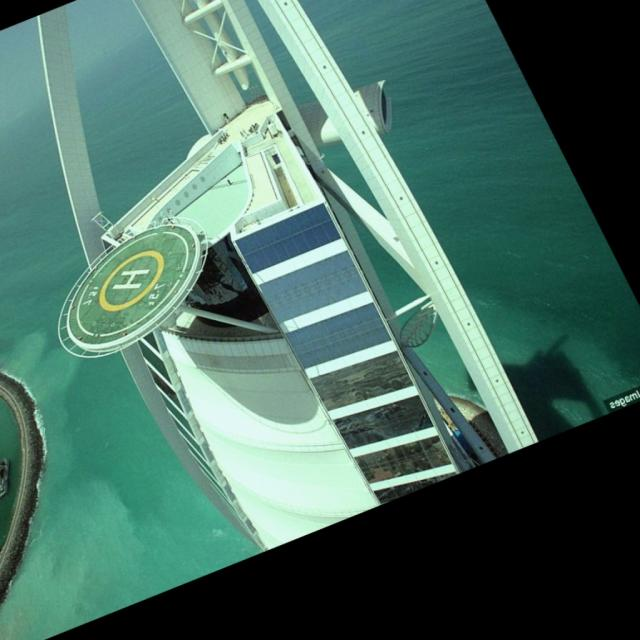helipad: (96, 244, 165, 314)
